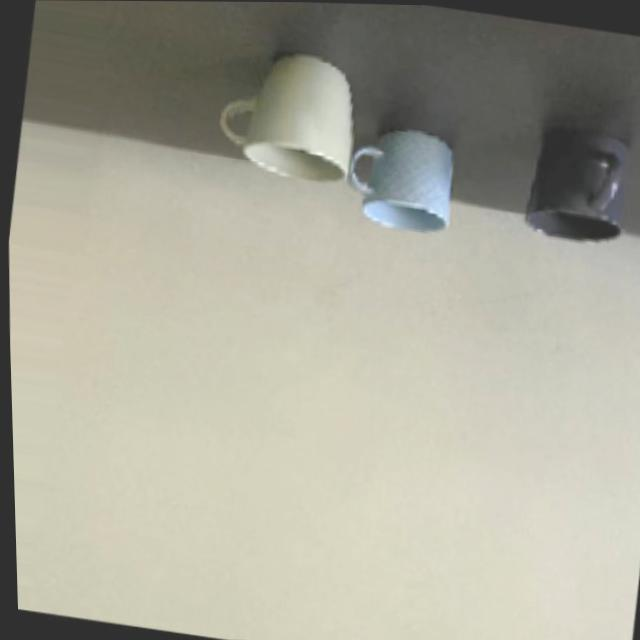cup: (346, 130, 352, 227)
